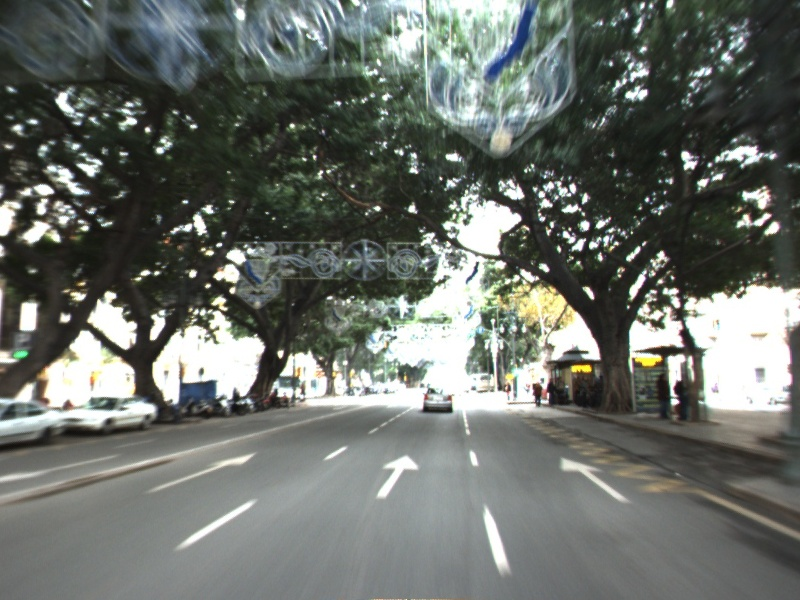STRAIGHT: (140, 450, 260, 497), (557, 454, 636, 506), (373, 453, 422, 501)
